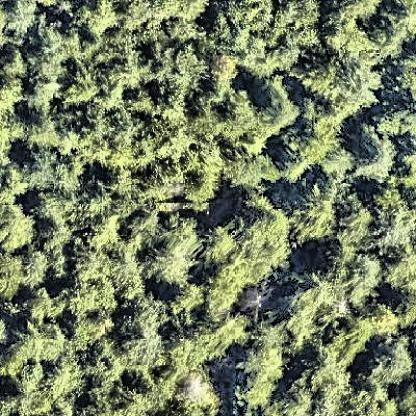tree-top: (231, 1, 318, 69), (301, 53, 388, 114), (148, 218, 204, 289), (290, 180, 348, 248), (230, 336, 287, 405), (172, 317, 249, 368), (292, 348, 353, 412), (238, 212, 289, 279), (116, 310, 166, 378), (350, 126, 404, 186), (334, 248, 388, 306), (370, 186, 416, 253), (12, 320, 73, 369), (220, 142, 275, 194), (294, 283, 344, 340), (152, 44, 202, 99), (228, 362, 281, 413), (257, 77, 305, 133), (211, 95, 261, 142), (21, 284, 72, 330), (143, 161, 190, 210), (34, 24, 74, 81), (320, 6, 366, 55), (370, 6, 416, 54), (117, 373, 168, 416), (44, 357, 88, 404), (371, 342, 415, 388), (67, 61, 109, 109), (2, 202, 40, 255), (73, 303, 119, 346), (171, 372, 218, 414), (197, 223, 239, 269), (13, 245, 56, 289), (22, 148, 64, 193), (360, 298, 406, 338), (77, 280, 121, 321), (75, 1, 121, 40), (86, 212, 127, 254), (34, 184, 76, 225), (124, 1, 180, 31), (205, 49, 245, 90), (384, 244, 416, 294), (171, 283, 212, 322), (72, 132, 108, 173), (394, 45, 416, 106), (24, 75, 60, 112), (27, 113, 61, 150), (6, 1, 41, 36), (5, 74, 40, 109), (320, 147, 362, 176), (111, 115, 147, 146), (165, 13, 202, 43), (1, 253, 23, 301), (397, 140, 416, 195), (5, 46, 30, 77), (400, 382, 416, 415)
